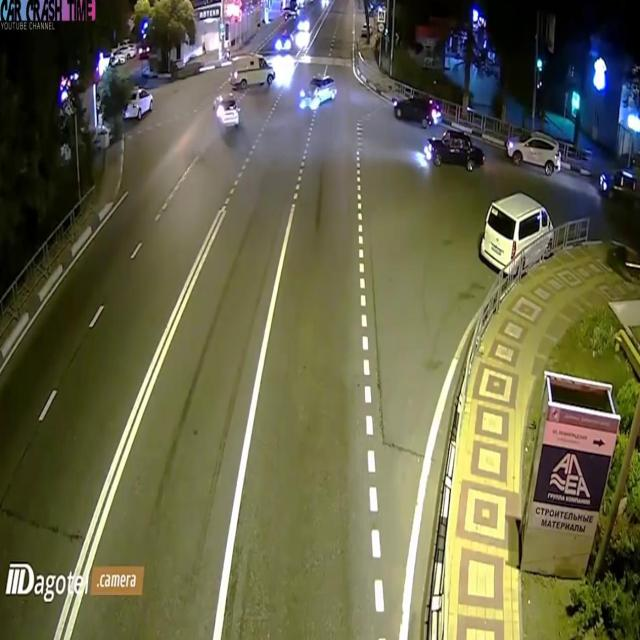accident: (295, 66, 341, 122)
